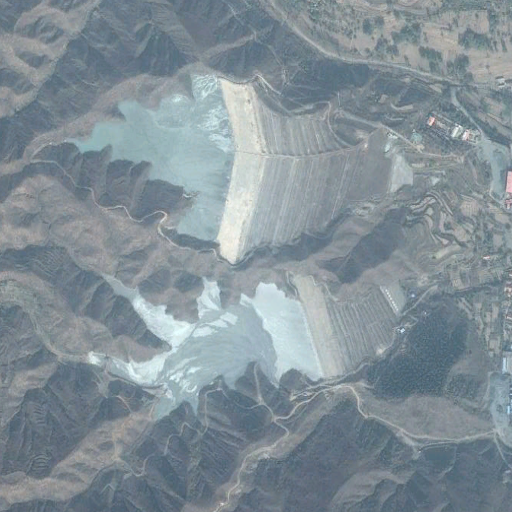tp: (56, 71, 414, 264), (83, 261, 407, 416)
